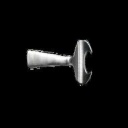Fork: (16, 32, 107, 96)
